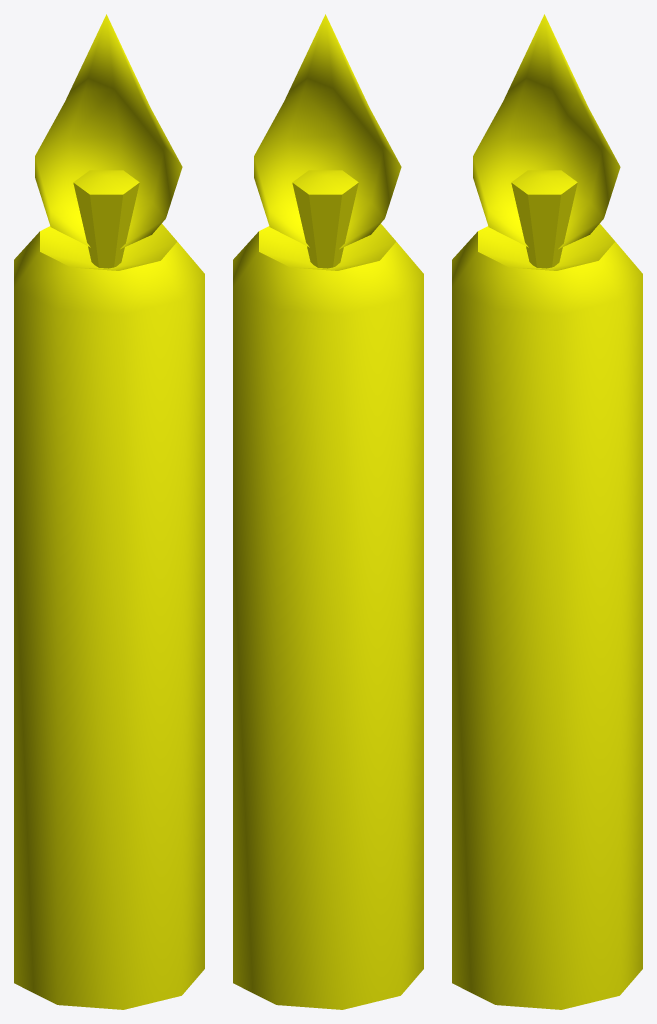
The model's file is kaykit-candle-thin-lit.glb.
3 renders of one model, left to right at view 1: azimuth 30°, elevation 25°; view 2: azimuth 150°, elevation 25°; view 3: azimuth 270°, elevation 25°, orthographic.
Visible parts, largest first — view 1: candle_thin_lit; view 2: candle_thin_lit; view 3: candle_thin_lit.
Part boxes in pixels (x1,y1,x2,y2): candle_thin_lit: (14,14,204,1009); candle_thin_lit: (233,14,423,1009); candle_thin_lit: (452,14,642,1009).
Bounding box in the file's own units: 0.1932 × 1.05 × 0.1903.
